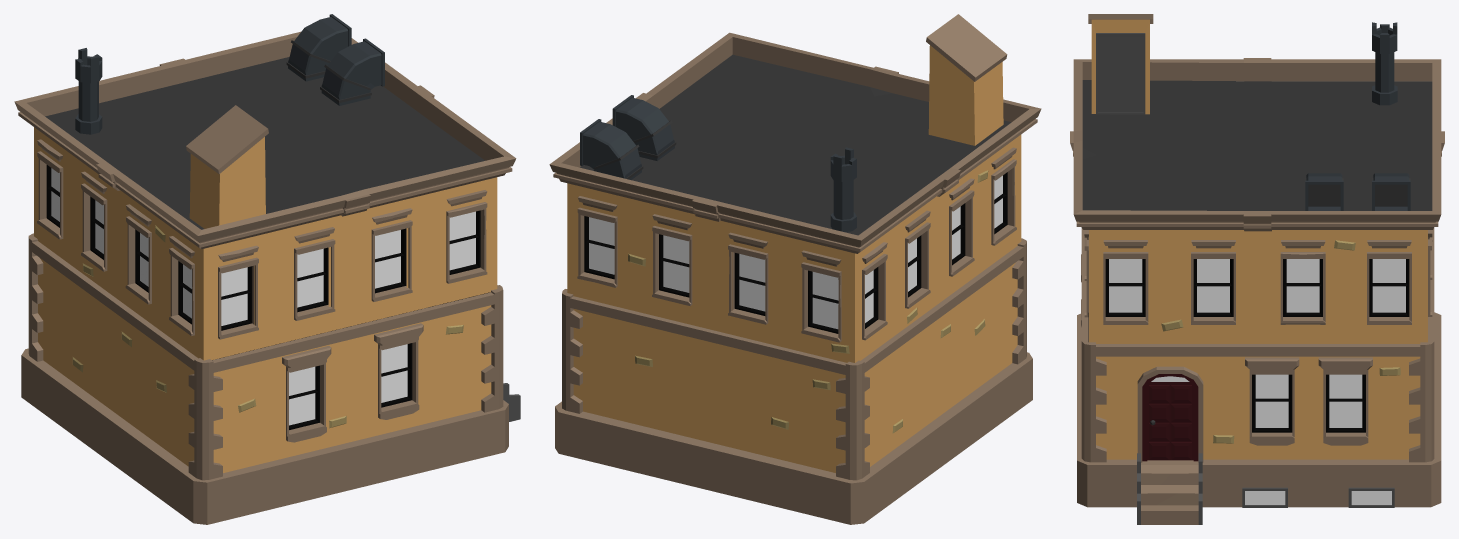
File: Proc. House.glb
3 renders of one model, left to right at view 1: azimuth 30°, elevation 25°; view 2: azimuth 150°, elevation 25°; view 3: azimuth 270°, elevation 25°, orthographic. The views are drawn at different scales.
Parts seen in each view (by area): view 1: Cube.003, Cube.006, Cube.008, Cube.009, Cube.015, Cube.012, Cube.010, Cube.013; view 2: Cube.003, Cube.008, Cube.006, Cube.009, Cube.015, Cube.010, Cube.012, Cube.013; view 3: Cube.008, Cube.003, Cube.006, Cube.009, Cube.015, Cube.013, Cube.010, Cube.012.
Boxes of the visible parts, x1,y1,x2,y2 form: Cube.003: (28, 233, 503, 480); Cube.006: (34, 127, 497, 360); Cube.008: (14, 31, 516, 249); Cube.009: (21, 348, 520, 524); Cube.015: (186, 105, 268, 228); Cube.012: (320, 38, 384, 105); Cube.010: (286, 14, 351, 81); Cube.013: (75, 48, 102, 134); Cube.003: (562, 238, 1026, 480); Cube.008: (549, 32, 1041, 253); Cube.006: (567, 135, 1021, 362); Cube.009: (555, 352, 1032, 524); Cube.015: (926, 14, 1007, 145); Cube.010: (580, 119, 643, 179); Cube.012: (612, 95, 676, 160); Cube.013: (830, 147, 856, 232); Cube.008: (1070, 58, 1444, 231); Cube.003: (1081, 227, 1434, 462); Cube.006: (1084, 230, 1432, 343); Cube.009: (1077, 312, 1441, 524); Cube.015: (1088, 14, 1153, 114); Cube.013: (1372, 22, 1397, 105); Cube.010: (1372, 173, 1410, 210); Cube.012: (1305, 173, 1343, 210).
Size of the model in its own units: 3.57 by 3.59 by 3.24.
